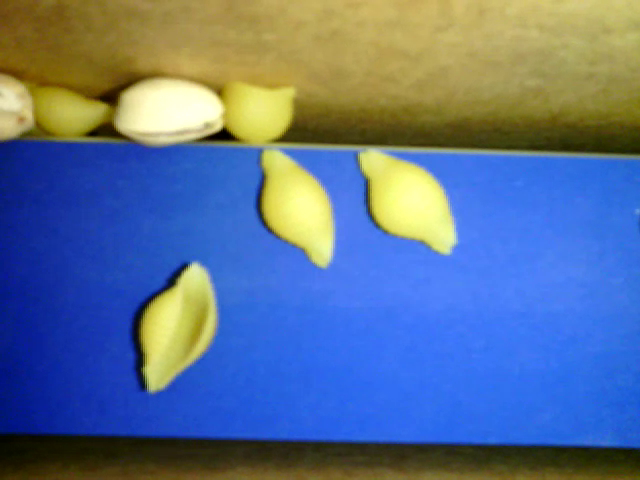shell: (353, 147, 456, 250), (137, 257, 215, 390), (256, 144, 335, 266), (19, 74, 117, 139), (221, 75, 299, 145)
